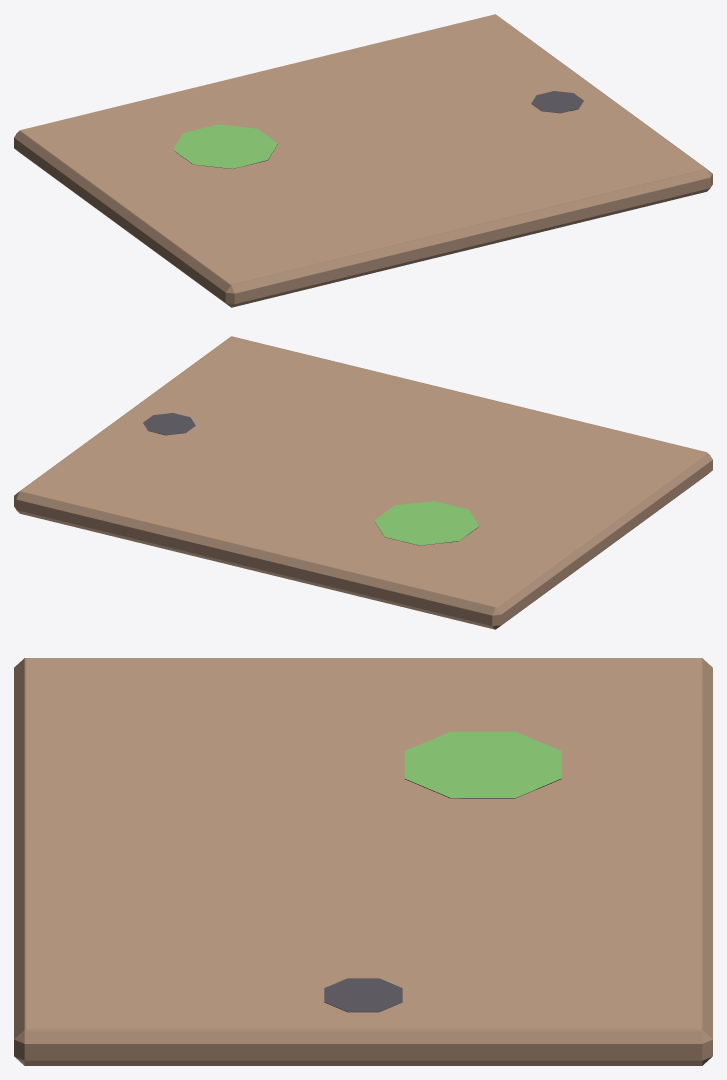
The model's file is ChoppingBoardBoard.fbx.
The picture shows the model from 3 angles, top to bottom: view 1: azimuth 30°, elevation 25°; view 2: azimuth 150°, elevation 25°; view 3: azimuth 270°, elevation 25°; orthographic projection. The views are drawn at different scales.
Parts seen in each view (by area): view 1: ChoppingBoardBoard; view 2: ChoppingBoardBoard; view 3: ChoppingBoardBoard.
Part boxes in pixels (<box>): ChoppingBoardBoard: <box>14,14,712,307</box>; ChoppingBoardBoard: <box>14,336,712,629</box>; ChoppingBoardBoard: <box>14,658,712,1065</box>.
Bounding box in the file's own units: 339 × 15.2 × 263.
Materials: 1 (1 with a texture image).
